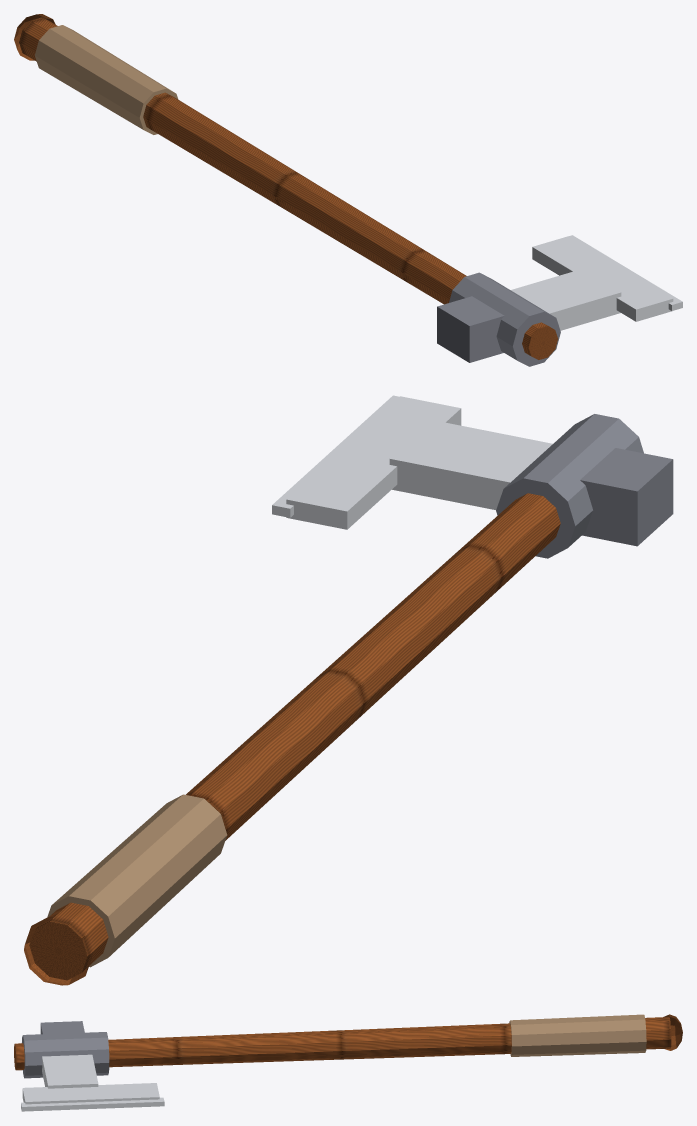
Rendered from axe-3.glb.
The picture shows the model from 3 angles, top to bottom: view 1: azimuth 30°, elevation 25°; view 2: azimuth 150°, elevation 25°; view 3: azimuth 270°, elevation 25°; orthographic projection. The views are drawn at different scales.
Visible parts, largest first — view 1: warrior-hand-axe; view 2: warrior-hand-axe; view 3: warrior-hand-axe.
Boxes of the visible parts, box(x1,y1,x2,y2) form: warrior-hand-axe: box(14, 14, 682, 366); warrior-hand-axe: box(24, 395, 673, 985); warrior-hand-axe: box(14, 1014, 682, 1111).
Bounding box in the file's own units: 0.2368 × 0.0494 × 0.7938.
Materials: 4 (1 with a texture image).
